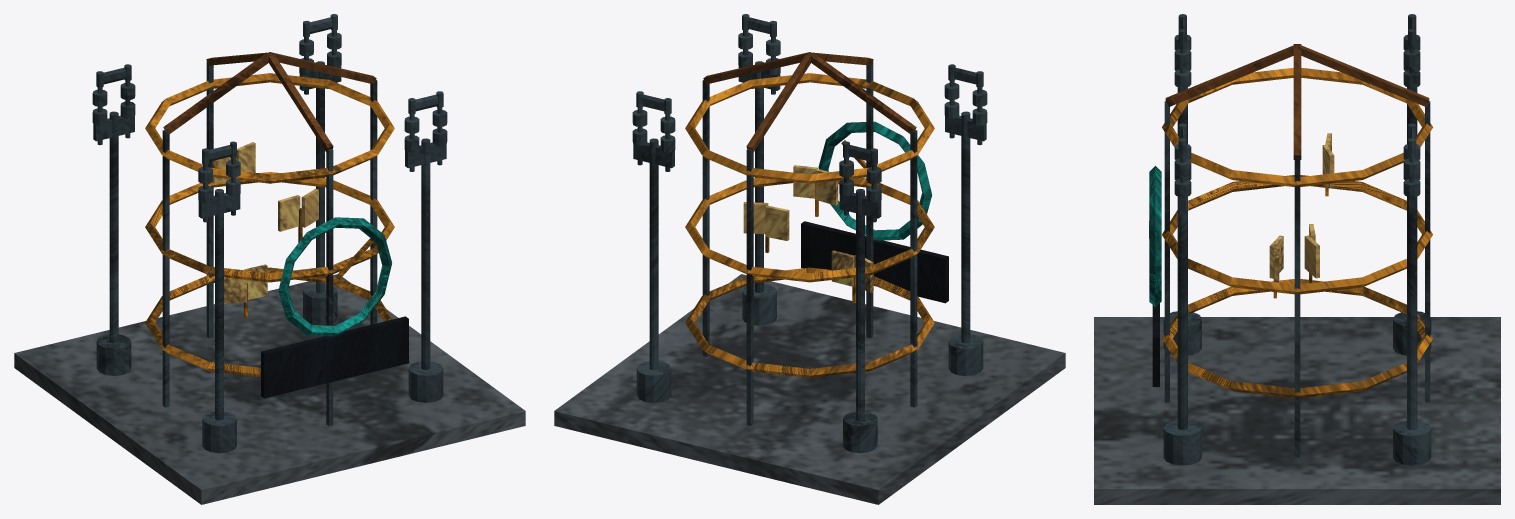
Rendered from mothglass-counting-cage.glb.
The picture shows the model from 3 angles, left to right: view 1: azimuth 30°, elevation 25°; view 2: azimuth 150°, elevation 25°; view 3: azimuth 270°, elevation 25°; orthographic projection. The views are drawn at different scales.
Visible parts, largest first — view 1: mothglass-counting-cage; view 2: mothglass-counting-cage; view 3: mothglass-counting-cage.
Boxes of the visible parts, x1,y1,x2,y2 form: mothglass-counting-cage: [14, 14, 525, 504]; mothglass-counting-cage: [554, 14, 1065, 504]; mothglass-counting-cage: [1094, 14, 1500, 504].
Bounding box in the file's own units: 5.5 × 5.57 × 5.5.
Materials: 1 (1 with a texture image).
